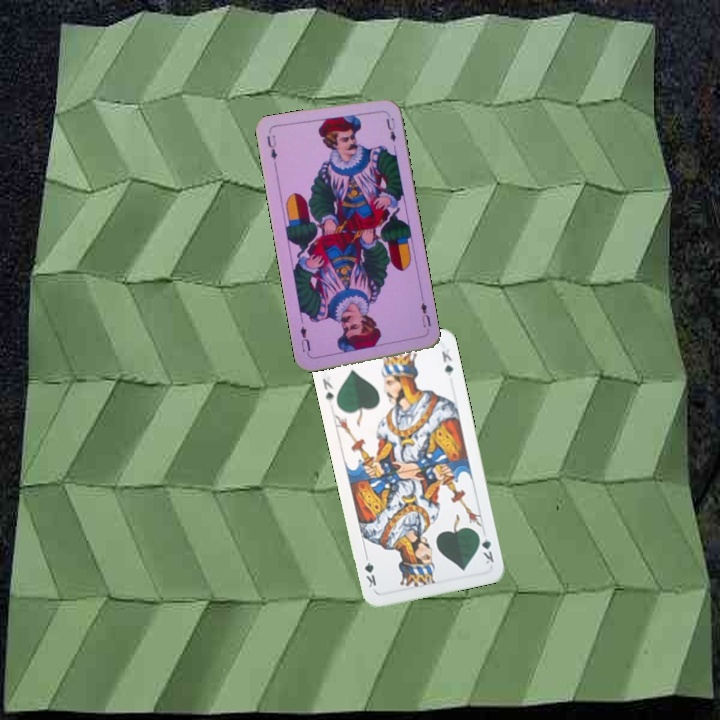EU: (417, 298, 433, 336), (263, 131, 280, 162)
GK: (474, 529, 496, 567), (318, 370, 337, 406)
